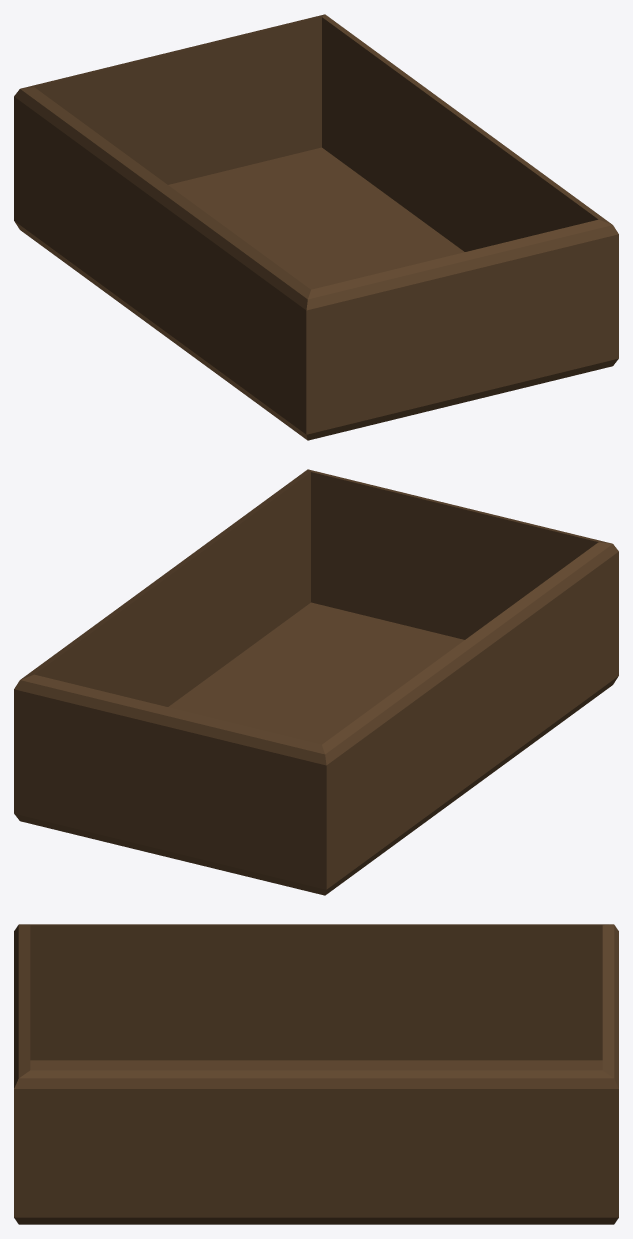
Rendered from bed lade.fbx.
3 renders of one model, top to bottom at view 1: azimuth 30°, elevation 25°; view 2: azimuth 150°, elevation 25°; view 3: azimuth 270°, elevation 25°, orthographic. The views are drawn at different scales.
Visible parts, largest first — view 1: Lade Kinderbed.002; view 2: Lade Kinderbed.002; view 3: Lade Kinderbed.002.
Boxes of the visible parts, x1,y1,x2,y2 form: Lade Kinderbed.002: (14,14,618,440); Lade Kinderbed.002: (14,469,618,895); Lade Kinderbed.002: (14,924,618,1224).
Bounding box in the file's own units: 44.83 × 20.32 × 72.67.
